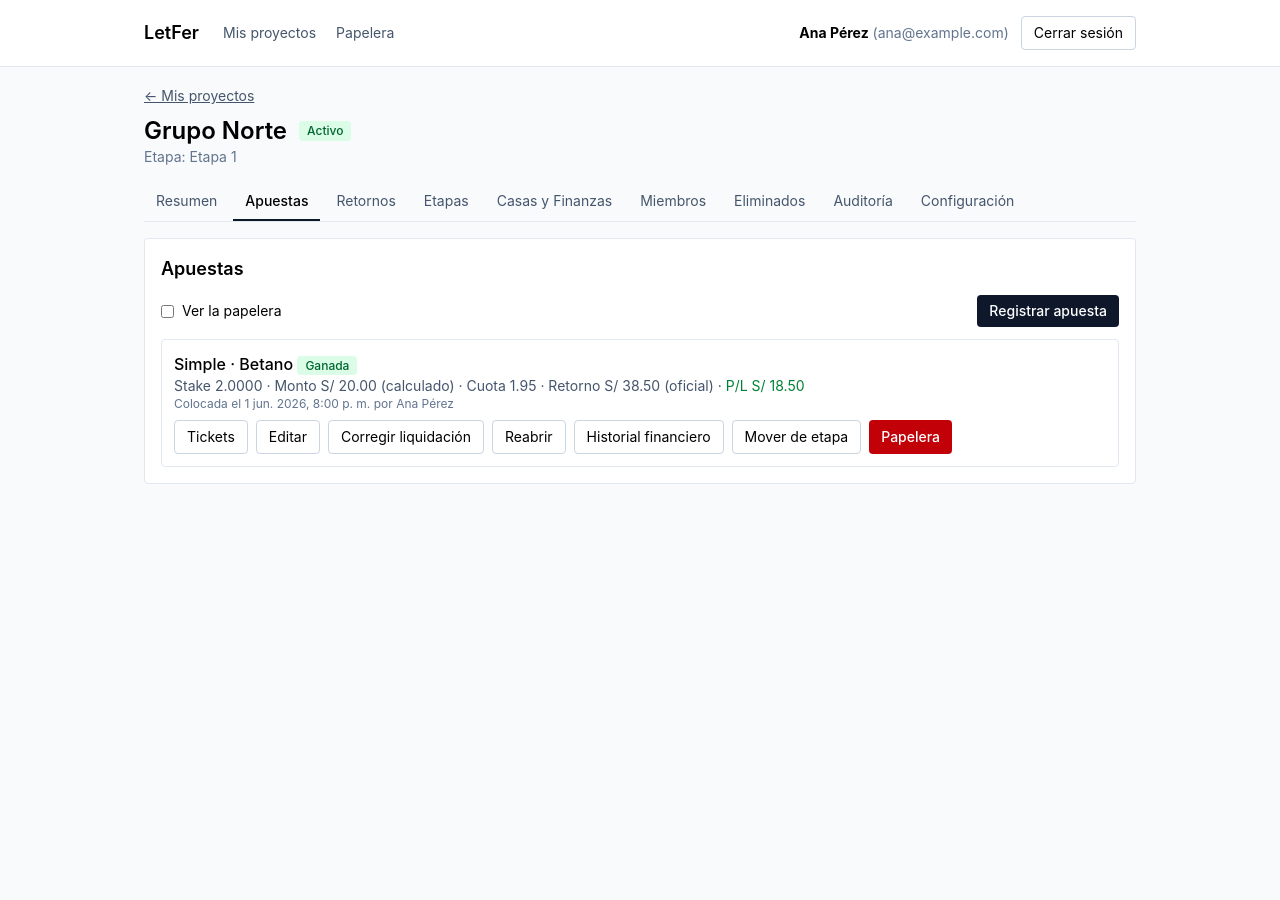
Scenario: corregir la liquidación (§112.3, D-A8) › una corrección que se rechazaría explica el conflicto y no se puede aplicar
Click the button "Corregir liquidación". click: (406, 437)
box: [328, 420, 484, 454]
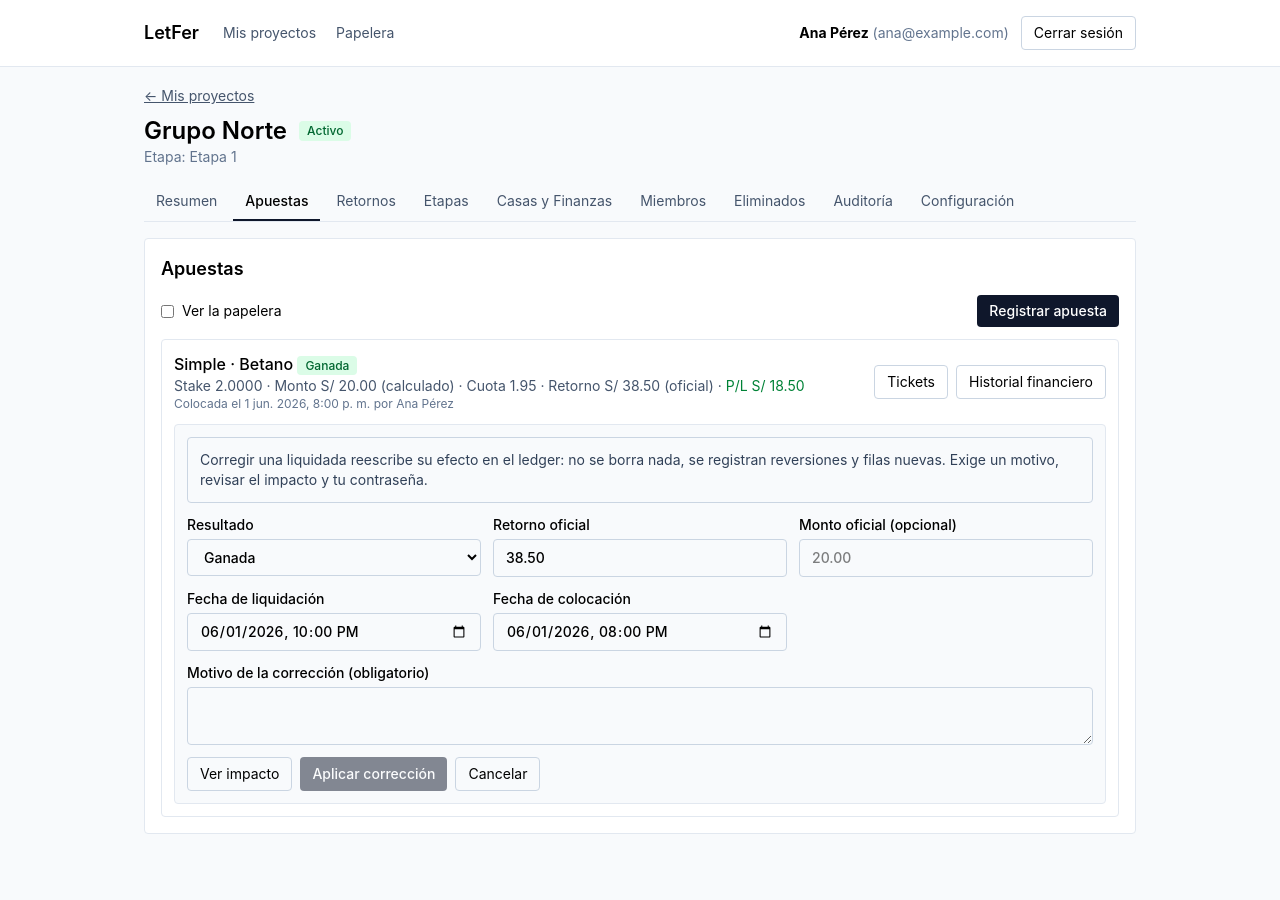
Select "Perdida" in the dropdown labelled "Resultado". click: (334, 558)
box: [187, 539, 481, 576]
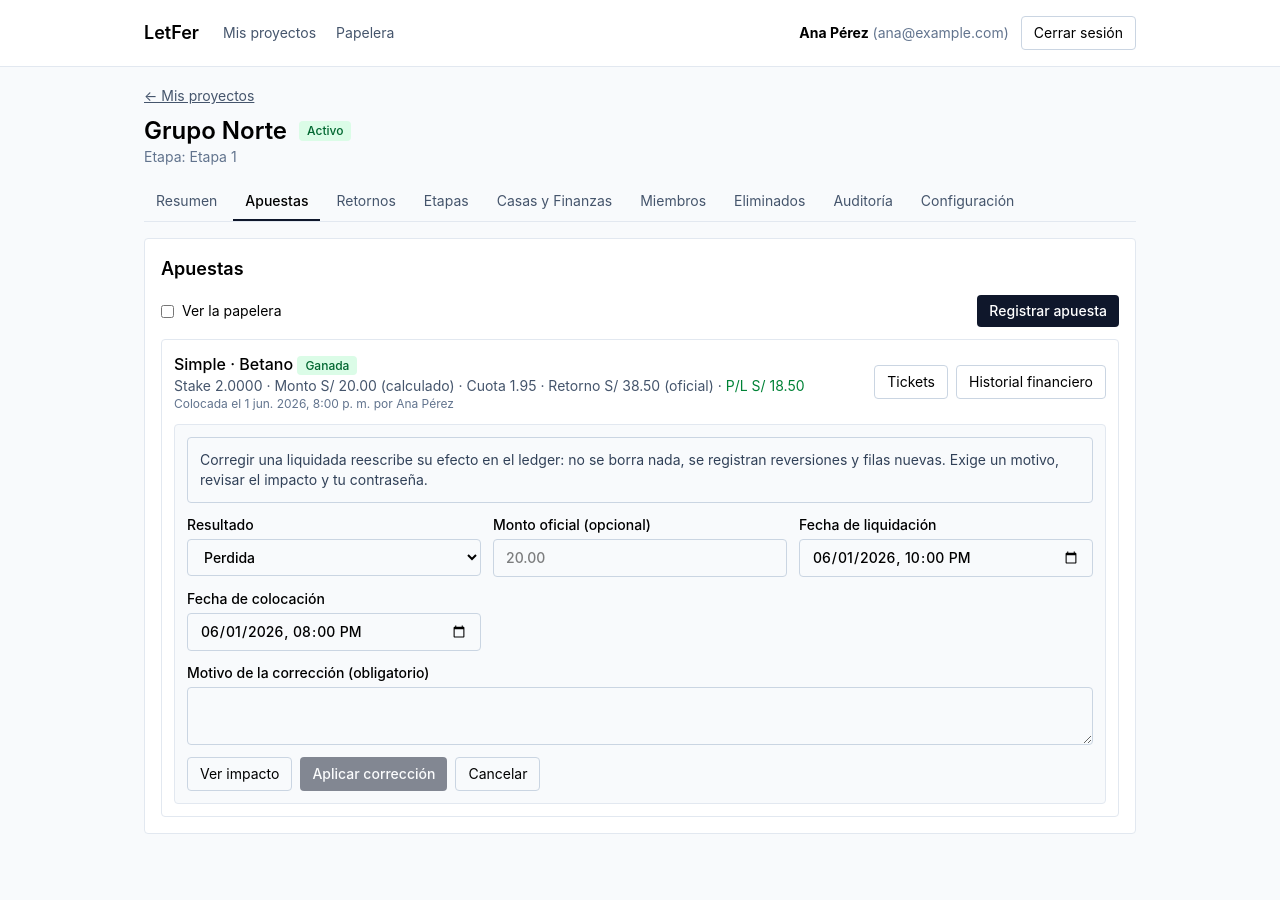
Type "x" into the text box labelled "Motivo de la corrección (obligatorio)". click: (640, 716)
box: [187, 687, 1093, 745]
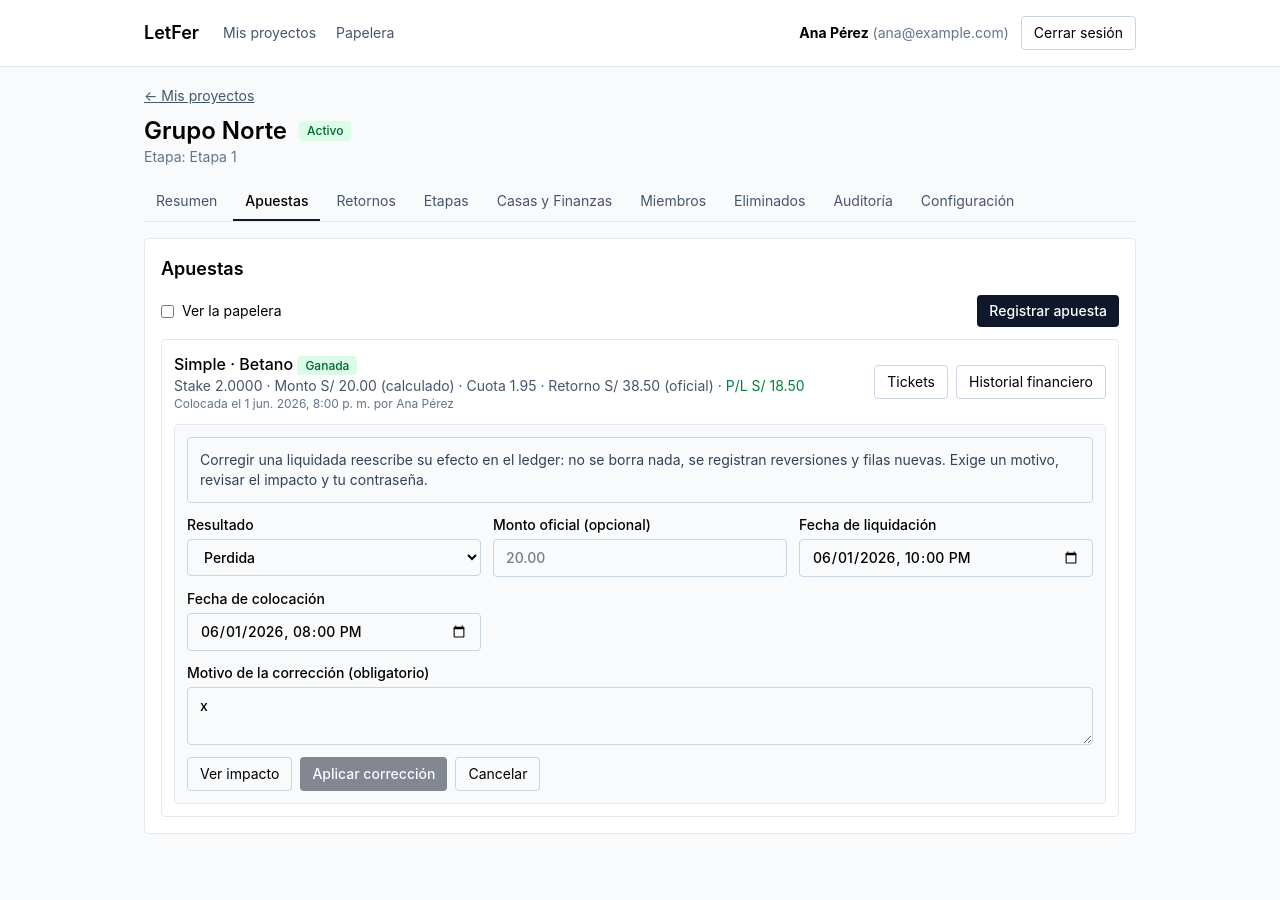
Click the button "Ver impacto". click: (240, 774)
box: [187, 757, 292, 791]
(page scrolled)
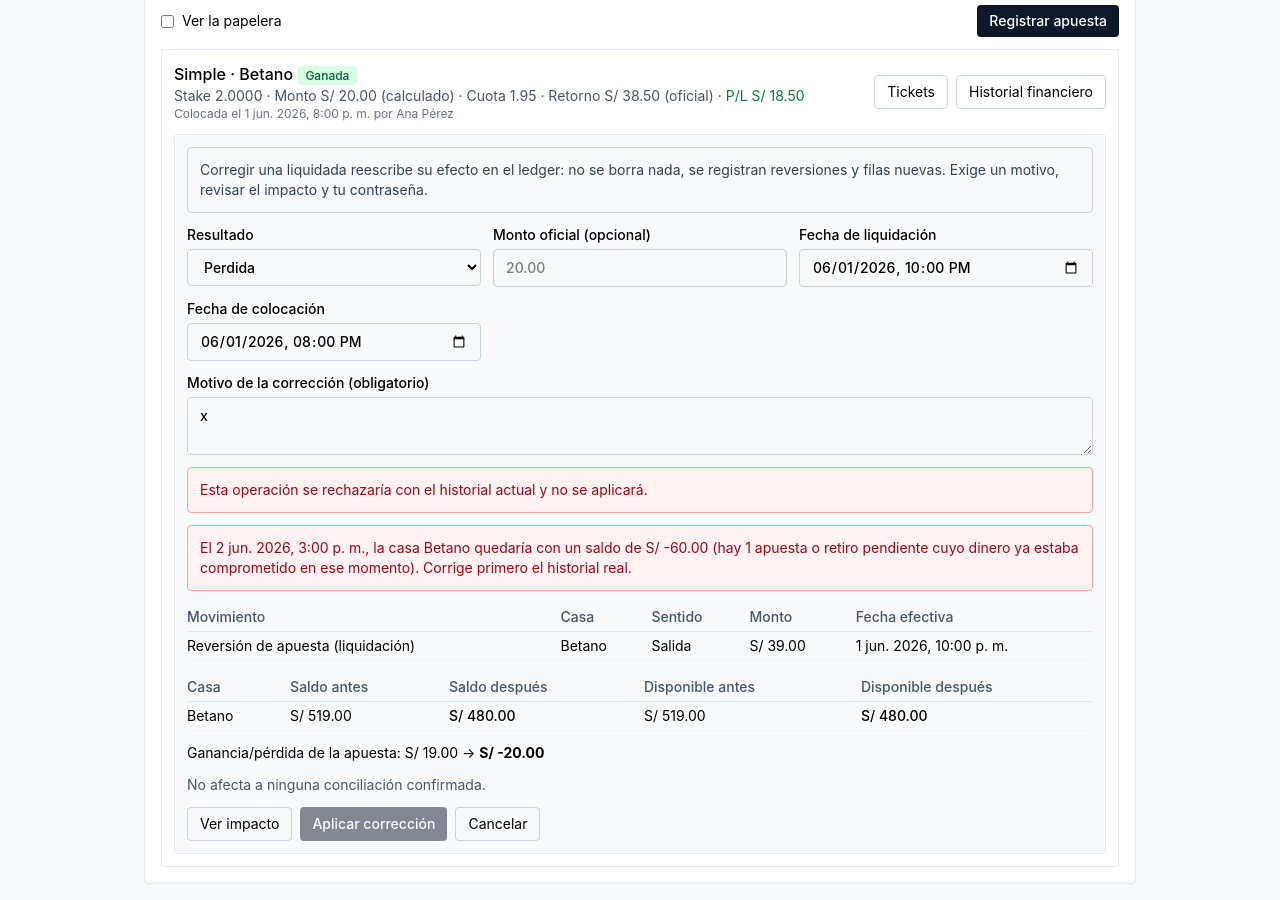
Expected: the text "Esta operación se rechazaría con el historial actual y no se aplicará." is shown, [187, 467, 1093, 513]
Expected: the text "quedaría con un saldo de" is shown, [470, 539, 646, 556]
Expected: the text "1 apuesta o retiro pendiente" is shown, [200, 539, 1079, 576]
